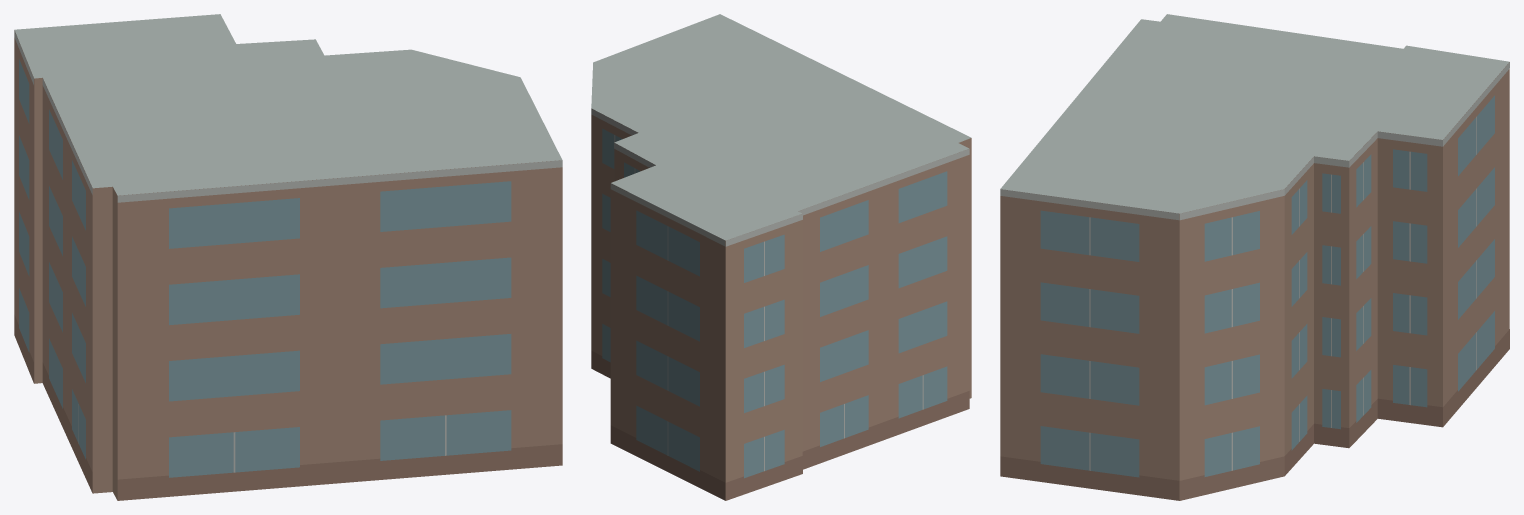
The model's file is survey-upis-32826145.glb.
3 renders of one model, left to right at view 1: azimuth 30°, elevation 25°; view 2: azimuth 150°, elevation 25°; view 3: azimuth 270°, elevation 25°, orthographic. The views are drawn at different scales.
Parts seen in each view (by area): view 1: survey-upis-32826145.tmp; view 2: survey-upis-32826145.tmp; view 3: survey-upis-32826145.tmp.
Part boxes in pixels (x1,y1,x2,y2): survey-upis-32826145.tmp: (14,14,562,500); survey-upis-32826145.tmp: (591,14,971,500); survey-upis-32826145.tmp: (1000,14,1509,500).
Bounding box in the file's own units: 15.51 × 10.4 × 16.73.
